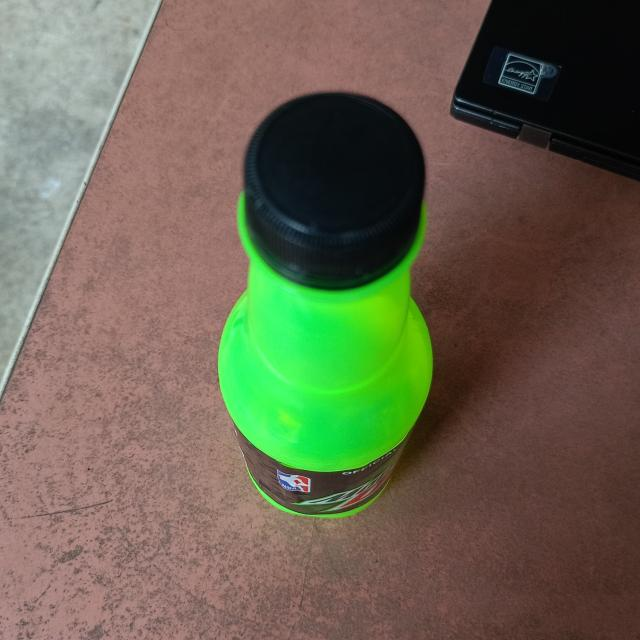Anorganik: (198, 71, 452, 534)
